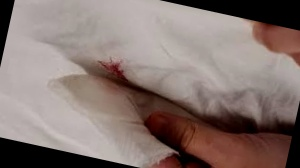lipstick: (90, 52, 138, 90)
